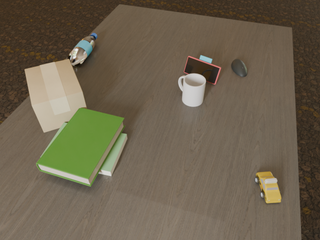book: (36, 108, 125, 186)
bottle: (68, 33, 97, 66)
box: (25, 59, 87, 132)
cup: (179, 73, 206, 106)
mouse: (231, 59, 247, 77)
phone: (184, 56, 221, 84)
toy_car: (255, 172, 281, 203)
